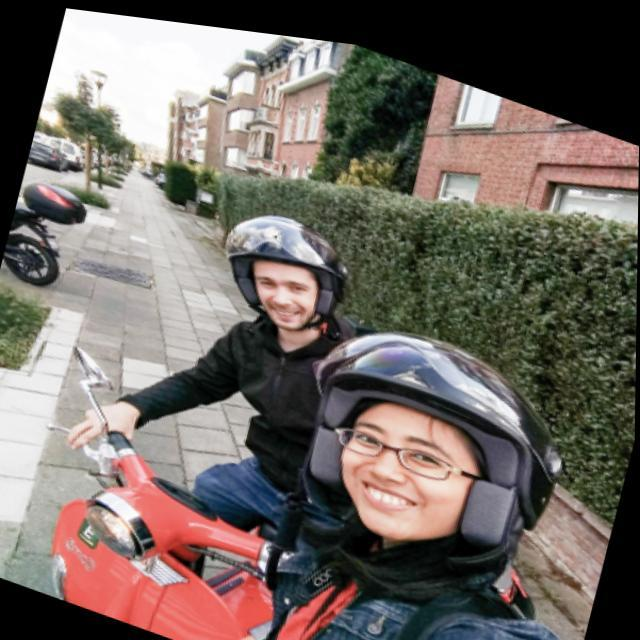Helmet: (295, 327, 563, 600), (210, 199, 348, 341)
